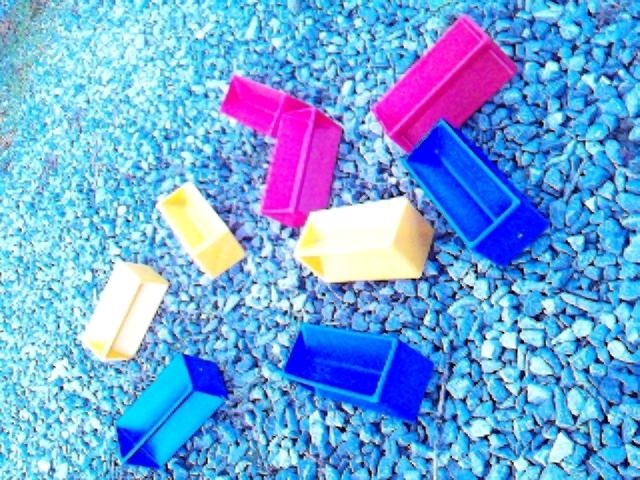blue: (403, 119, 551, 268), (281, 322, 435, 425), (115, 352, 229, 470)
red: (371, 14, 519, 155), (260, 107, 344, 228), (220, 73, 313, 139)
yellow: (294, 196, 435, 284), (80, 260, 169, 363), (155, 181, 246, 279)
